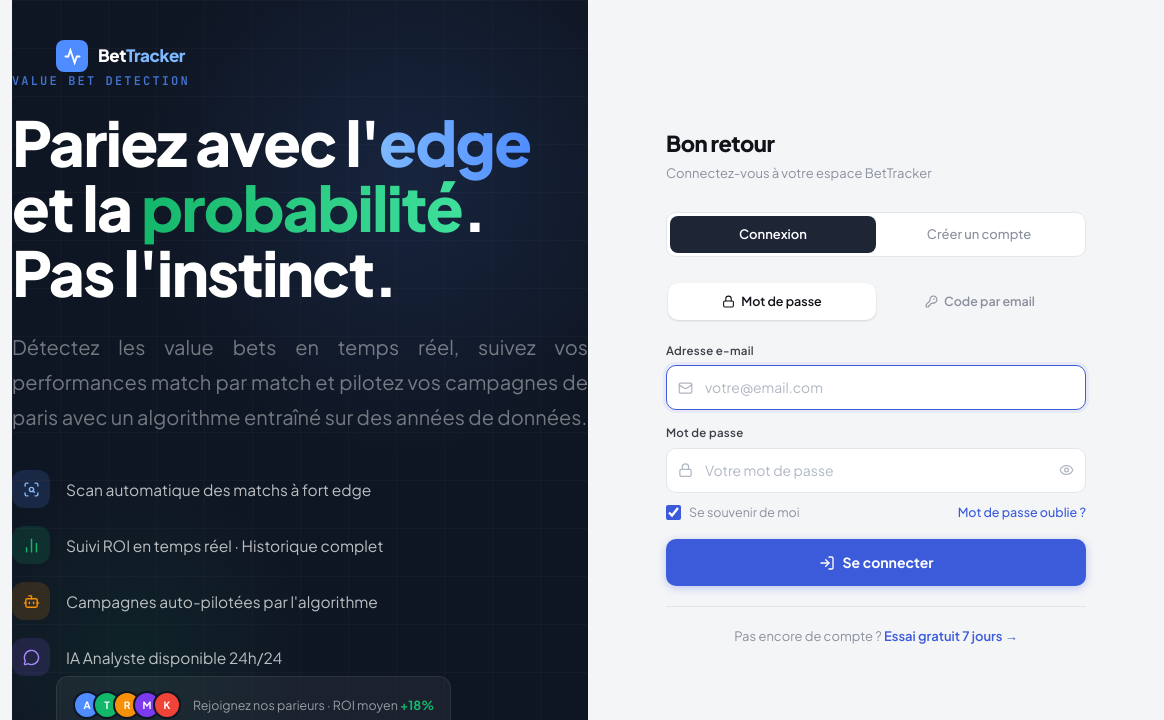
Test: Login page — formulaire connexion › affiche un message d'erreur si login échoue
Step 1. Type "bad@test.com" into the field with placeholder "votre@email.com" → point(876, 388), box [666,365,1086,410]
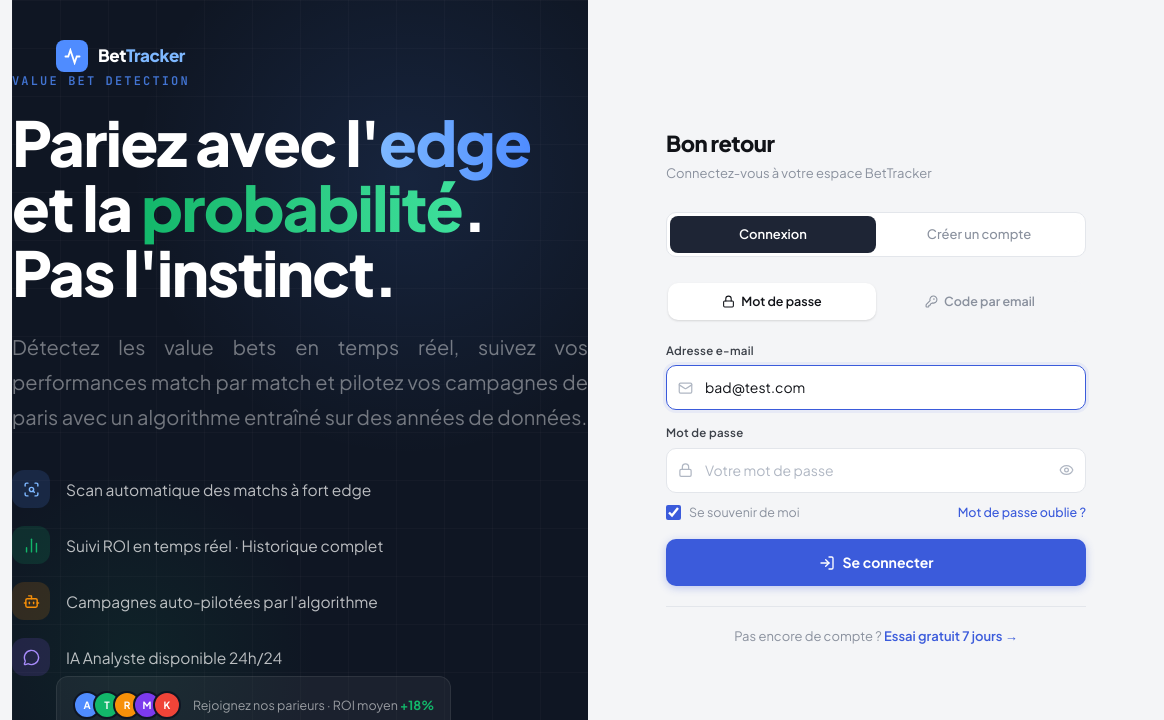
Step 2. Type "wrongpass" into the password field with placeholder "Votre mot de passe" → point(876, 470), box [666,448,1086,493]
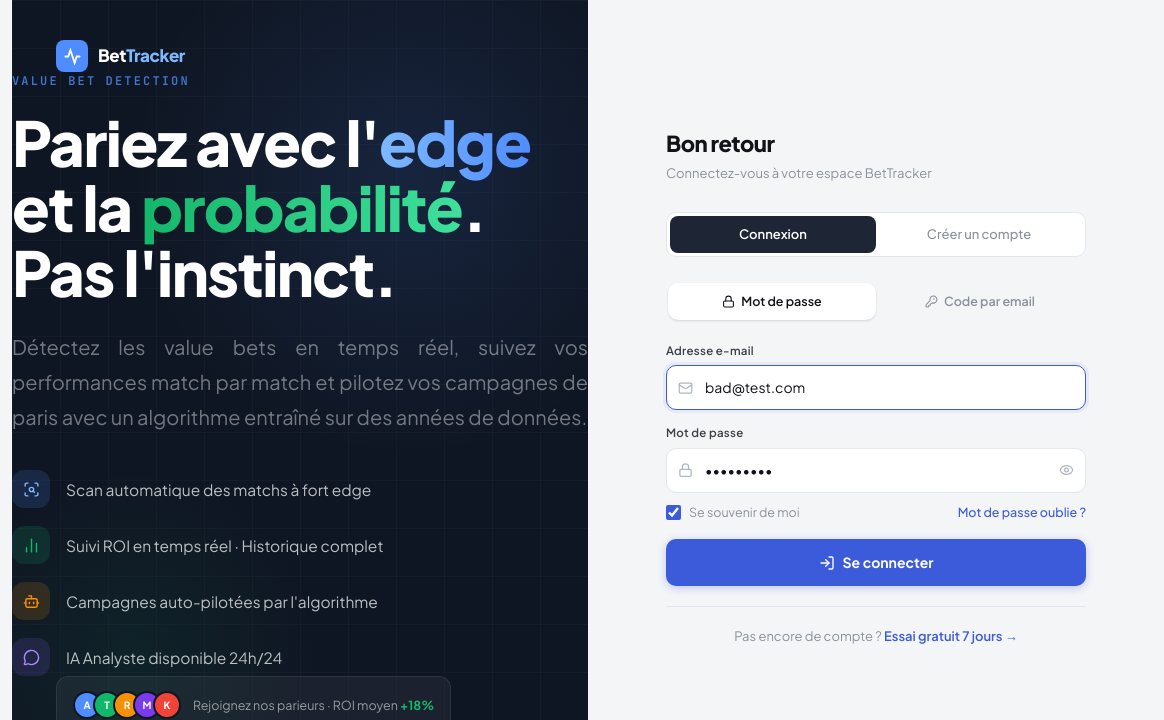
Step 3. Click the button "Se connecter" → point(876, 563), box [666,539,1086,586]
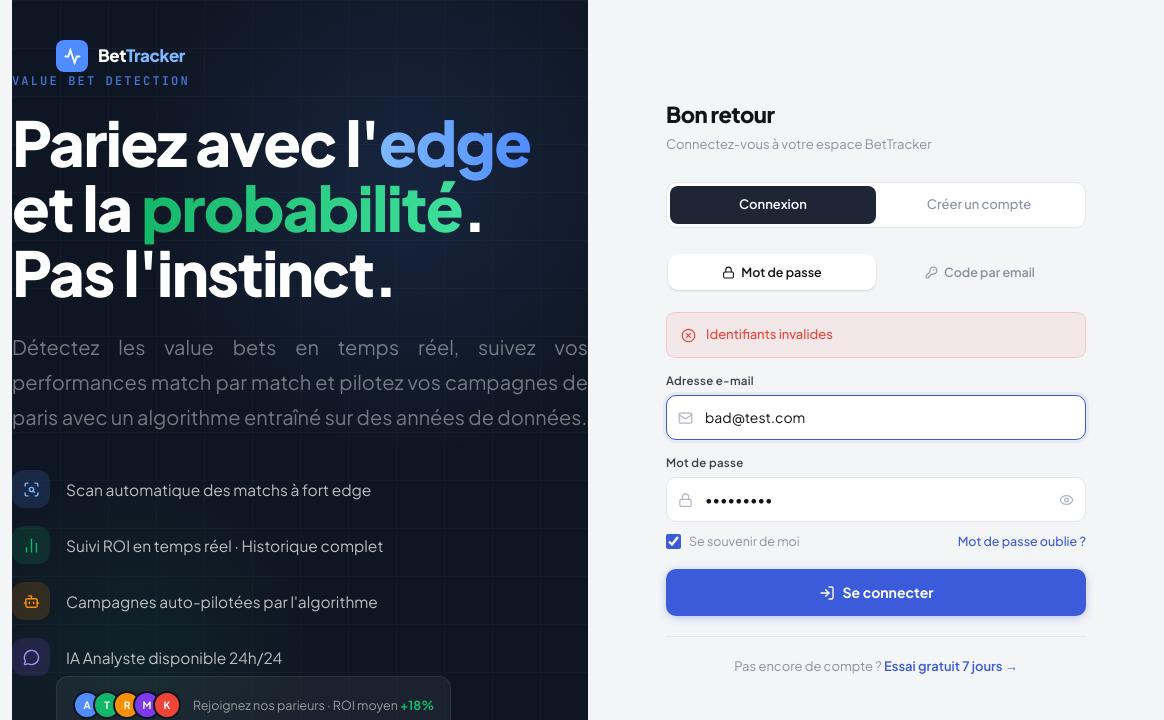
Result: the text "Identifiants invalides" is shown at [666,312,1086,358]
